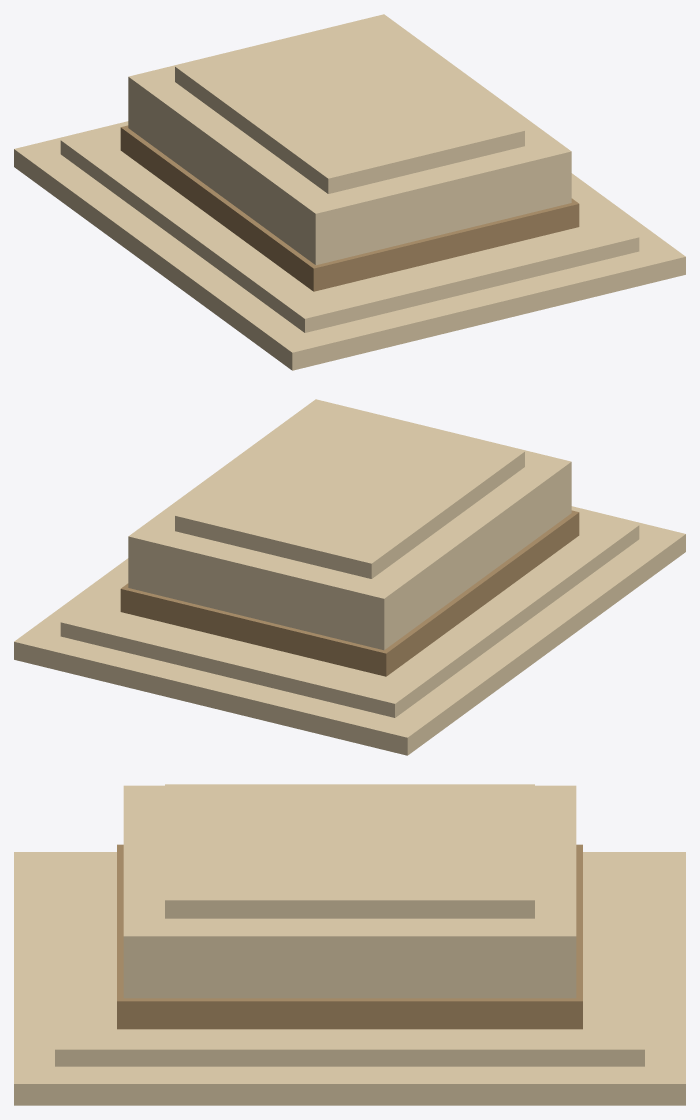
Rendered from chapeu_safari.glb.
3 renders of one model, top to bottom at view 1: azimuth 30°, elevation 25°; view 2: azimuth 150°, elevation 25°; view 3: azimuth 270°, elevation 25°, orthographic. The views are drawn at different scales.
Visible parts, largest first — view 1: chapeu_safari; view 2: chapeu_safari; view 3: chapeu_safari.
Part boxes in pixels (x1=…): chapeu_safari: x1=14, y1=14, x2=685, y2=370; chapeu_safari: x1=14, y1=399, x2=685, y2=755; chapeu_safari: x1=14, y1=784, x2=685, y2=1105.
Size of the model in its own units: 0.8 by 0.2375 by 0.98.
